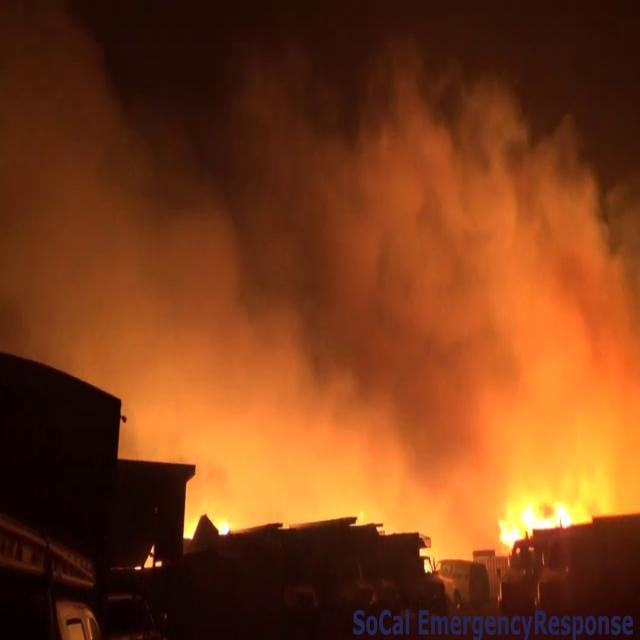Fire: (438, 479, 588, 558)
Smoke: (1, 2, 638, 486)
